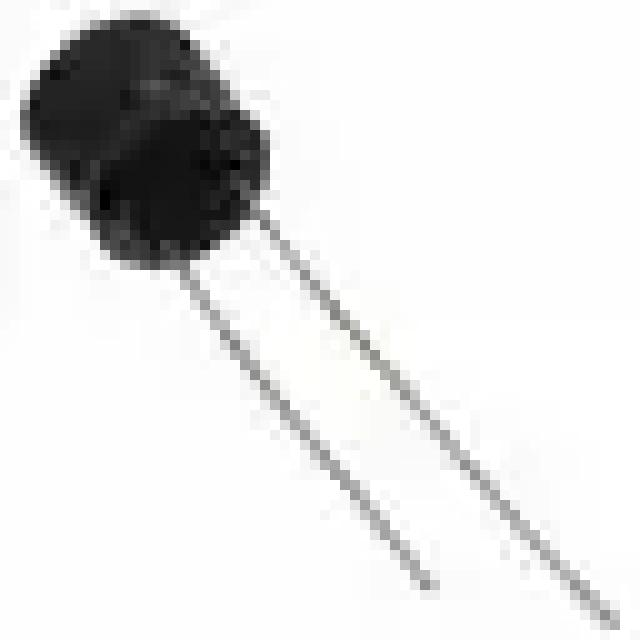Resistor: (20, 20, 270, 270)
